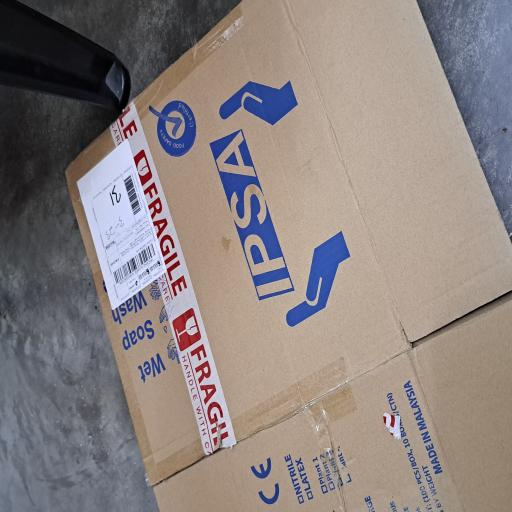cardboard: (0, 83, 384, 512)
